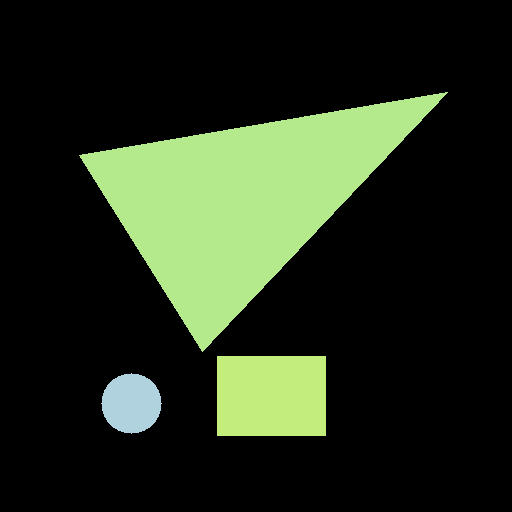circle: (101, 373, 161, 433)
rectangle: (217, 356, 325, 435)
triangle: (79, 92, 447, 351)
